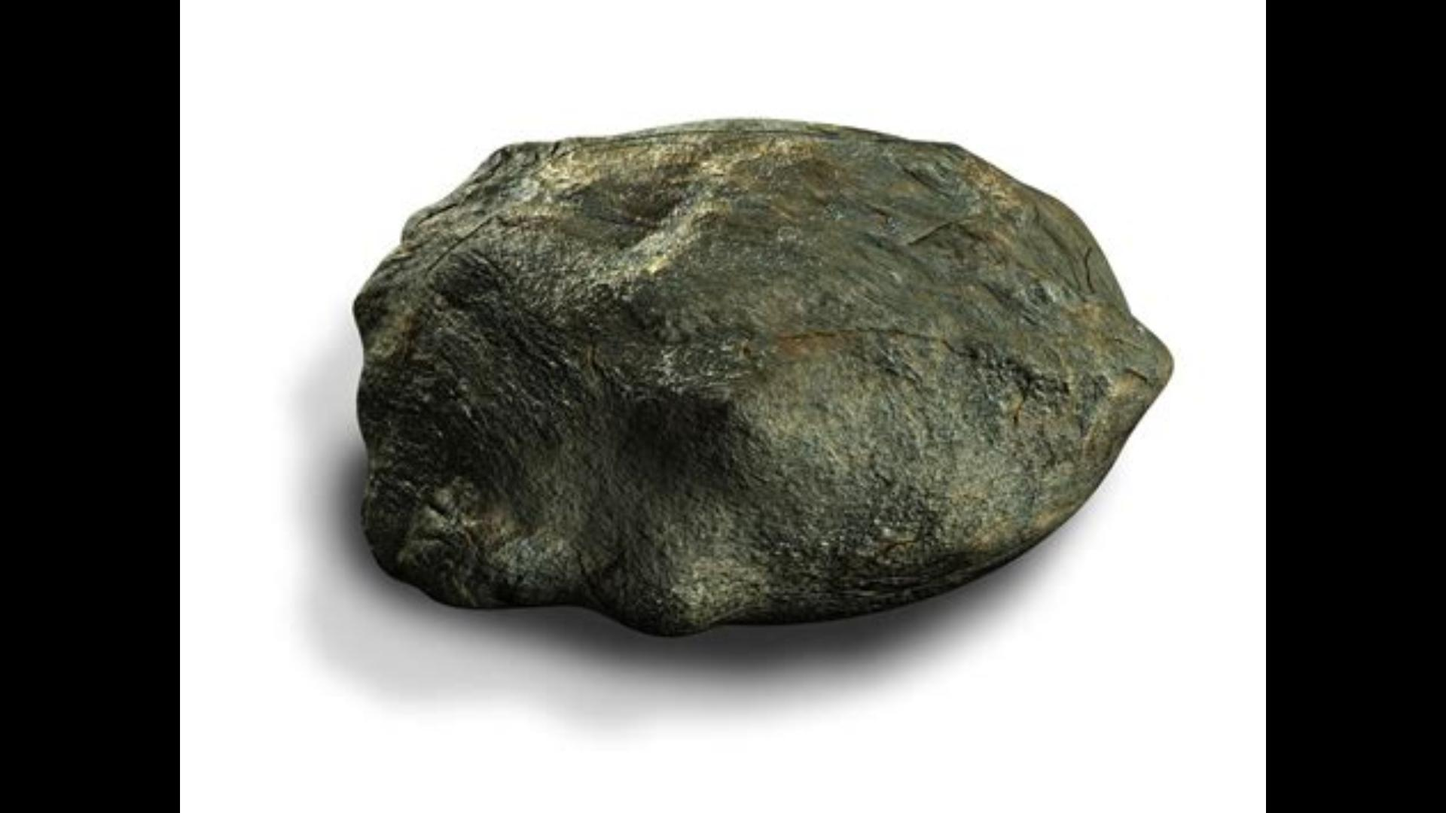rock: (354, 121, 1170, 630)
